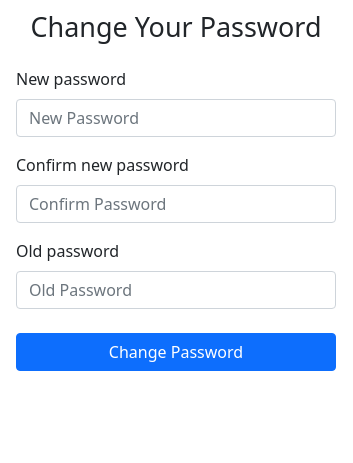
Scenario: Testing EditPassword component › Testing the component without filling any input
Click the button "Change Password": (176, 352) [16, 333, 336, 371]
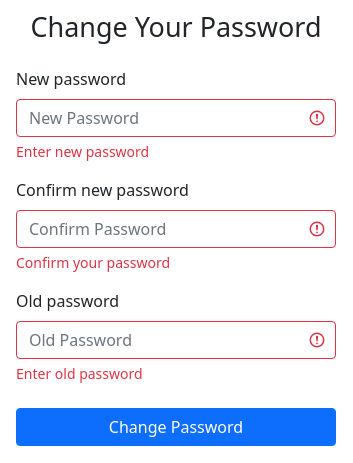
Expected: the text "Enter new password" is shown, [16, 142, 149, 161]
Expected: the text "Enter old password" is shown, [16, 364, 143, 383]
Expected: the text "Confirm your password" is shown, [16, 253, 170, 272]
